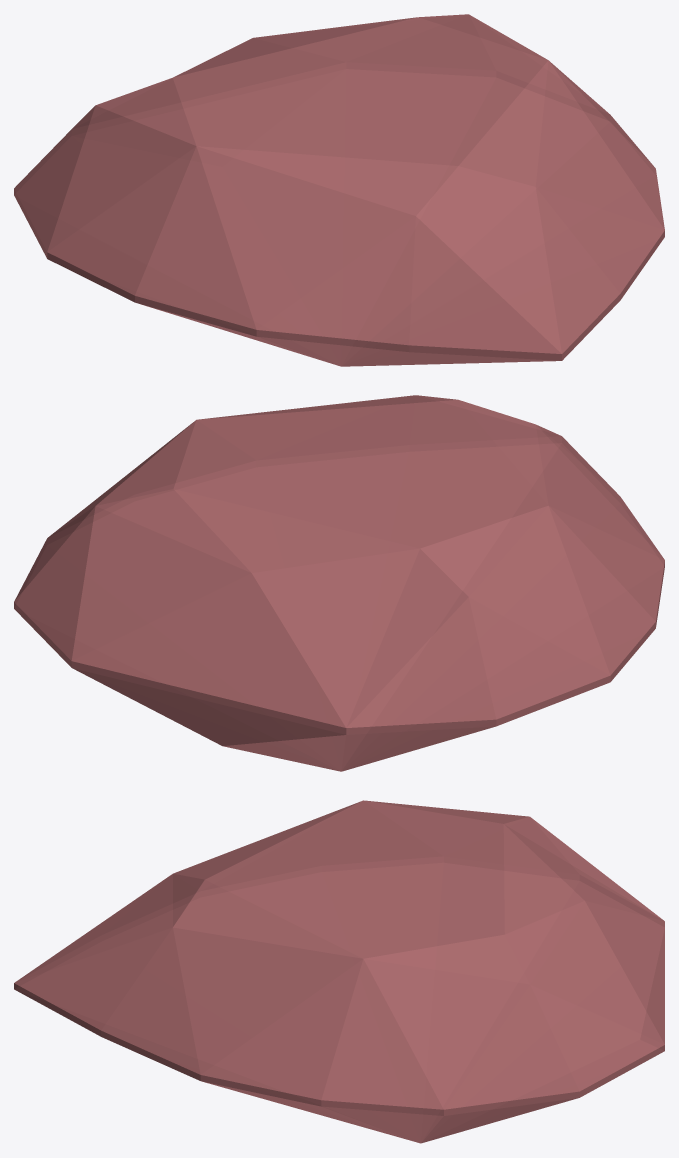
File: january.fbx
3 views of the same model, one above another, from view 1: azimuth 30°, elevation 25°; view 2: azimuth 150°, elevation 25°; view 3: azimuth 270°, elevation 25° (orthographic). The views are drawn at different scales.
Parts seen in each view (by area): view 1: garnet; view 2: garnet; view 3: garnet.
Part boxes in pixels (x1,y1,x2,y2): garnet: (14,14,664,366); garnet: (14,395,664,771); garnet: (14,800,664,1143).
Size of the model in its own units: 1067 by 518 by 1158.
1 material, 1 textured.
